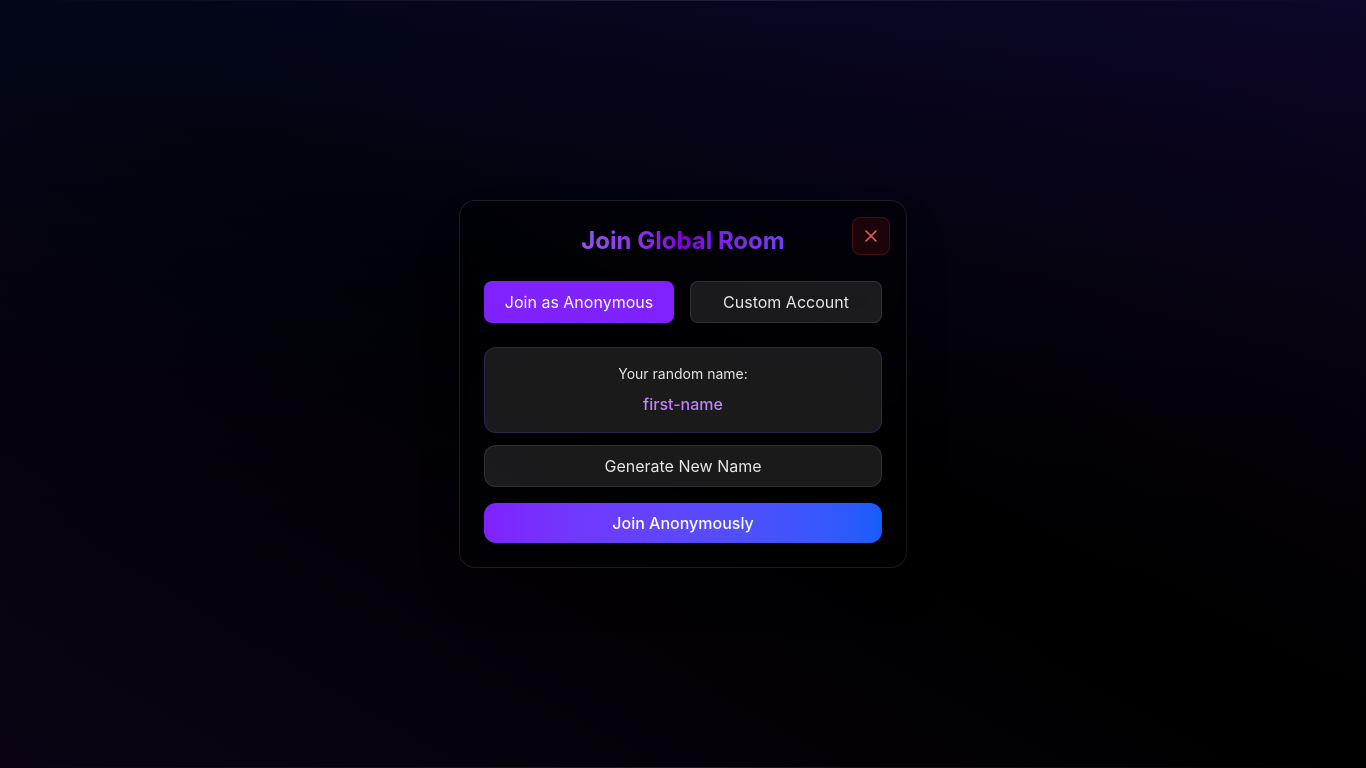
Test: JoinRoom › generates a new name when the "Generate New Name" button is clicked
expect the text "first-name" is shown: met, box [501,392,865,416]
Step 1. Click the button "Generate New Name" → (683, 466), box [484,445,882,487]
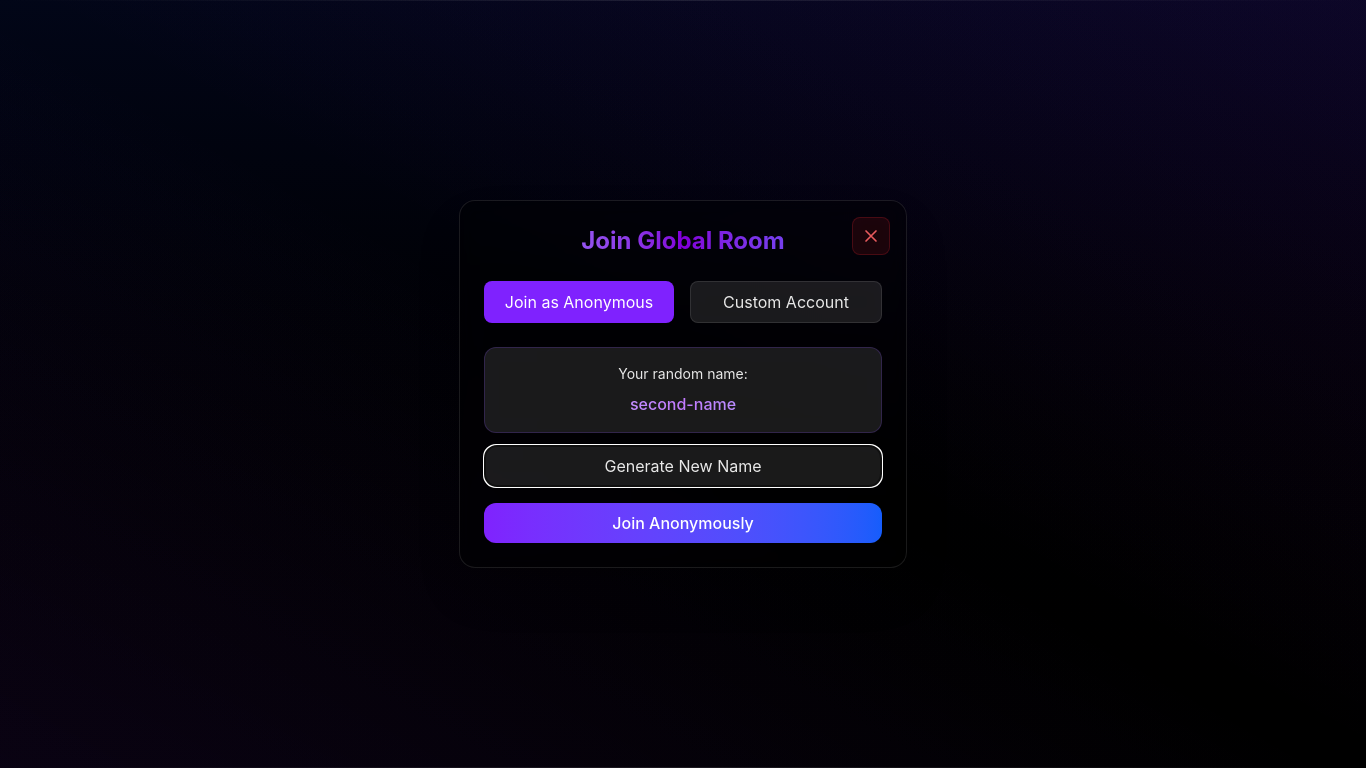
expect the text "second-name" is shown: met, box [501,392,865,416]
